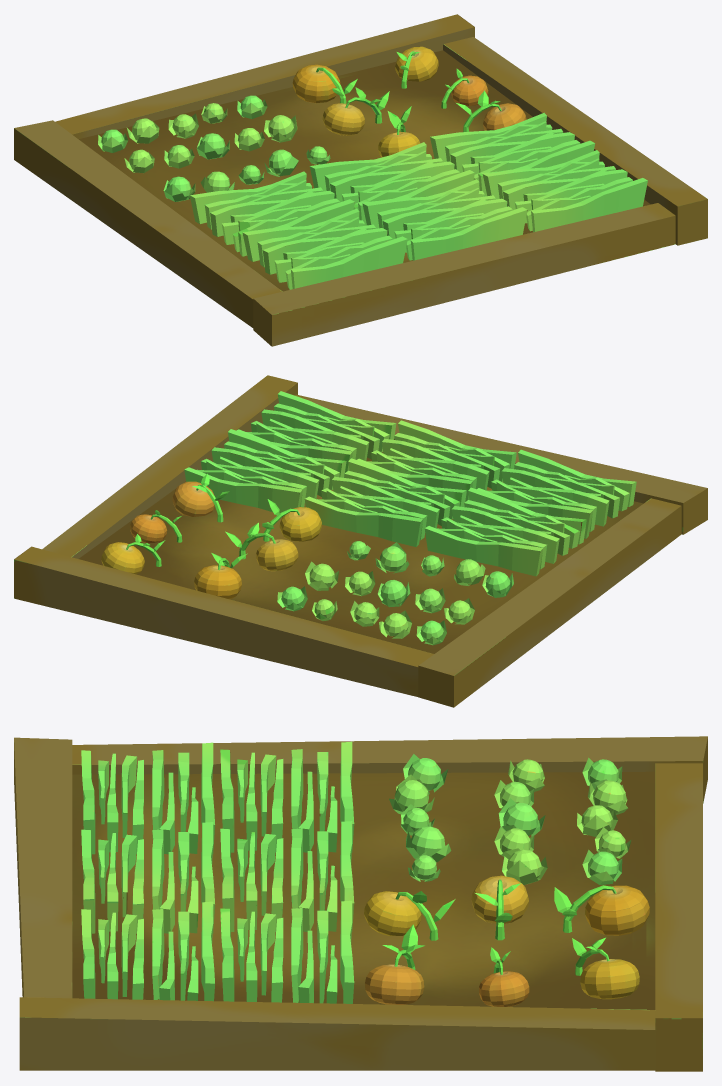
The picture shows the model from 3 angles, top to bottom: view 1: azimuth 30°, elevation 25°; view 2: azimuth 150°, elevation 25°; view 3: azimuth 270°, elevation 25°; orthographic projection. The views are drawn at different scales.
Parts seen in each view (by area): view 1: Farm; view 2: Farm; view 3: Farm.
Boxes of the visible parts, x1,y1,x2,y2 form: Farm: (14, 14, 707, 346); Farm: (14, 375, 707, 707); Farm: (14, 736, 707, 1071).
Bounding box in the file's own units: 302 × 39.49 × 303.
1 material, 1 textured.
